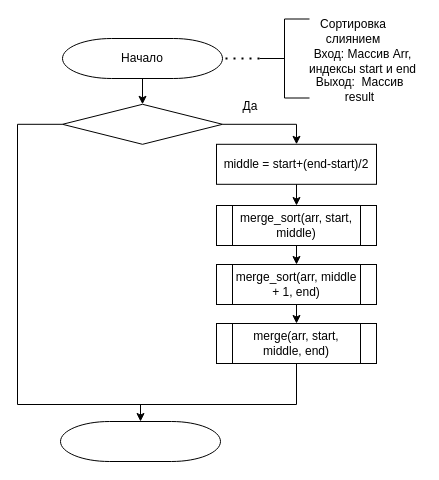
Image size: 439x480. Some labels were removed from this diagram. The shapes that lost their labels are listed below. From the top down, each one's centre as x and y in pixels, then its label:
the point at 142,123: start < end
the point at 140,441: Конец
